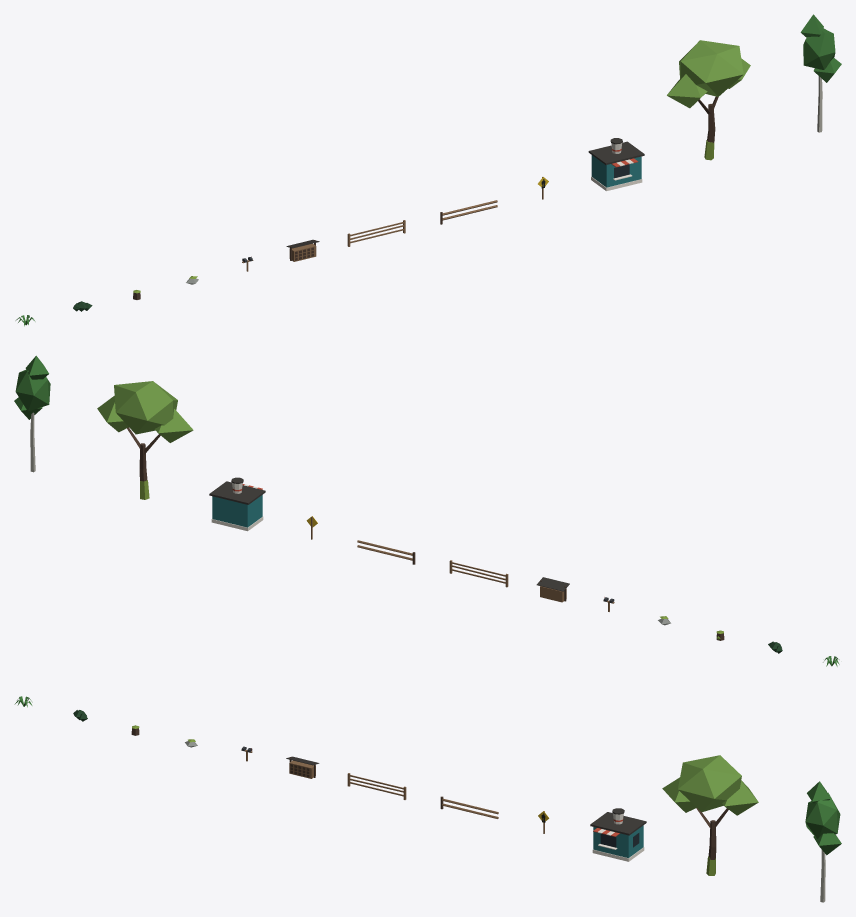
Rendered from pnw-roadside.glb.
3 renders of one model, top to bottom at view 1: azimuth 30°, elevation 25°; view 2: azimuth 150°, elevation 25°; view 3: azimuth 330°, elevation 25°, orthographic.
Parts seen in each view (by area): view 1: pnw_maple_body, pnw_espresso_body, pnw_alder_body; view 2: pnw_maple_body, pnw_espresso_body, pnw_alder_body, pnw_firewood_body; view 3: pnw_maple_body, pnw_espresso_body, pnw_alder_body, pnw_firewood_body, pnw_split_rail_body.
Part boxes in pixels (x1=…): pnw_maple_body: x1=667, y1=40, x2=750, y2=160; pnw_espresso_body: x1=588, y1=138, x2=644, y2=191; pnw_alder_body: x1=800, y1=14, x2=841, y2=132; pnw_maple_body: x1=97, y1=381, x2=193, y2=499; pnw_espresso_body: x1=209, y1=477, x2=265, y2=531; pnw_alder_body: x1=14, y1=355, x2=50, y2=472; pnw_firewood_body: x1=536, y1=577, x2=569, y2=602; pnw_maple_body: x1=662, y1=755, x2=758, y2=875; pnw_espresso_body: x1=590, y1=808, x2=646, y2=861; pnw_alder_body: x1=805, y1=781, x2=841, y2=902; pnw_firewood_body: x1=286, y1=756, x2=319, y2=778; pnw_split_rail_body: x1=347, y1=773, x2=406, y2=799.
Bounding box in the file's own units: 89.22 × 12.17 × 5.67.
